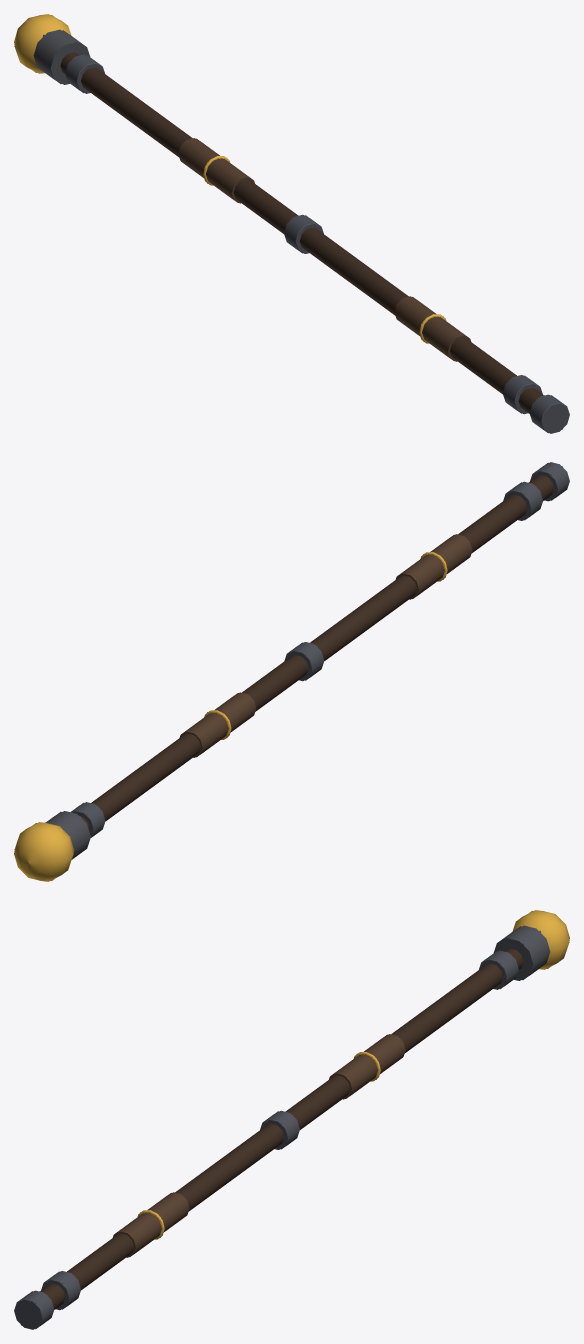
The model's file is m_staff.glb.
3 renders of one model, top to bottom at view 1: azimuth 30°, elevation 25°; view 2: azimuth 150°, elevation 25°; view 3: azimuth 330°, elevation 25°, orthographic.
Parts seen in each view (by area): view 1: L0, L1; view 2: L0, L1; view 3: L0, L1.
Boxes of the visible parts, x1,y1,x2,y2 form: L0: (14, 14, 569, 433); L1: (14, 15, 562, 433); L0: (14, 462, 569, 881); L1: (14, 462, 563, 880); L0: (14, 910, 569, 1329); L1: (21, 911, 569, 1329).
Bounding box in the file's own units: 0.0663 × 0.063 × 1.18.
